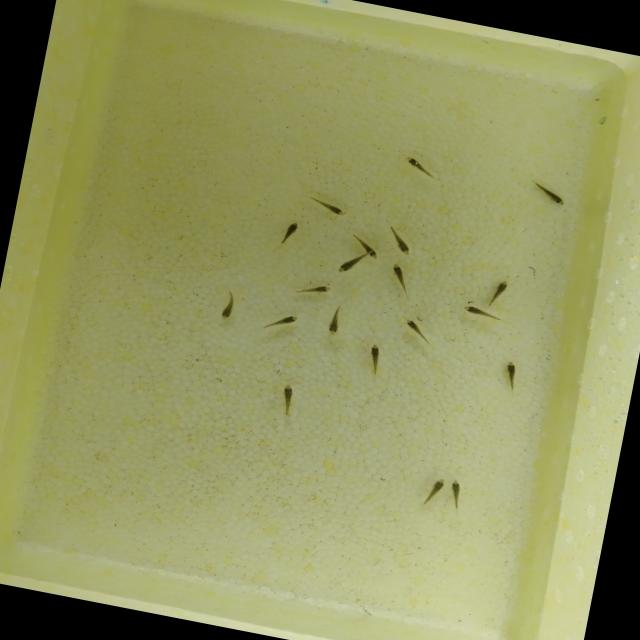fingerling: (394, 152, 446, 184), (303, 197, 352, 222), (531, 180, 571, 210), (396, 316, 434, 346), (387, 225, 419, 259), (385, 260, 415, 296), (320, 304, 350, 338), (362, 340, 387, 378), (422, 472, 448, 508), (213, 290, 240, 324), (270, 308, 304, 332), (445, 477, 469, 509), (278, 218, 303, 248), (334, 252, 360, 278), (488, 276, 507, 310), (458, 306, 502, 320), (501, 359, 523, 386), (277, 382, 298, 408), (308, 280, 338, 298), (364, 242, 384, 262)
